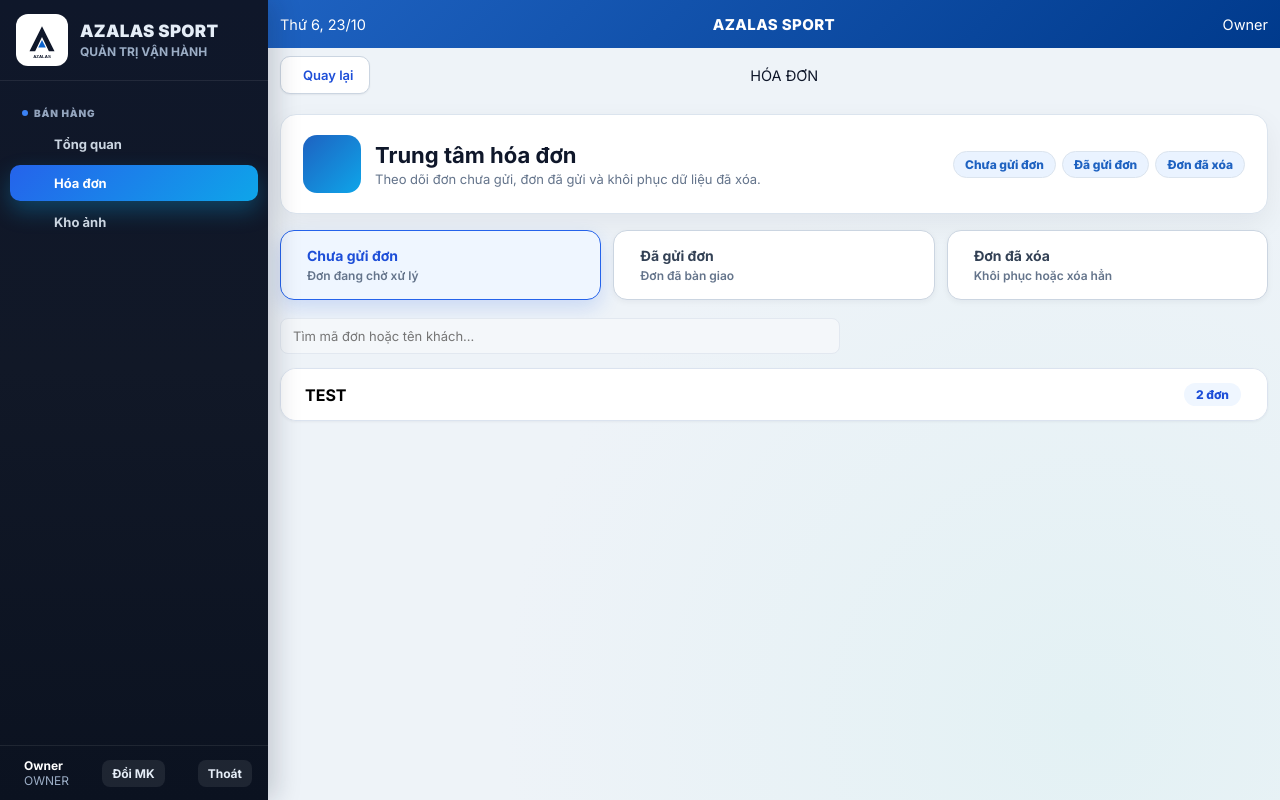
Scenario: invoice split flow › clicking a pending customer navigates to the group page without opening a modal
The width and height of the screenshot is (1280, 800).
Click the button with class "invoice-group-head": (326, 394) [281, 369, 1267, 420]
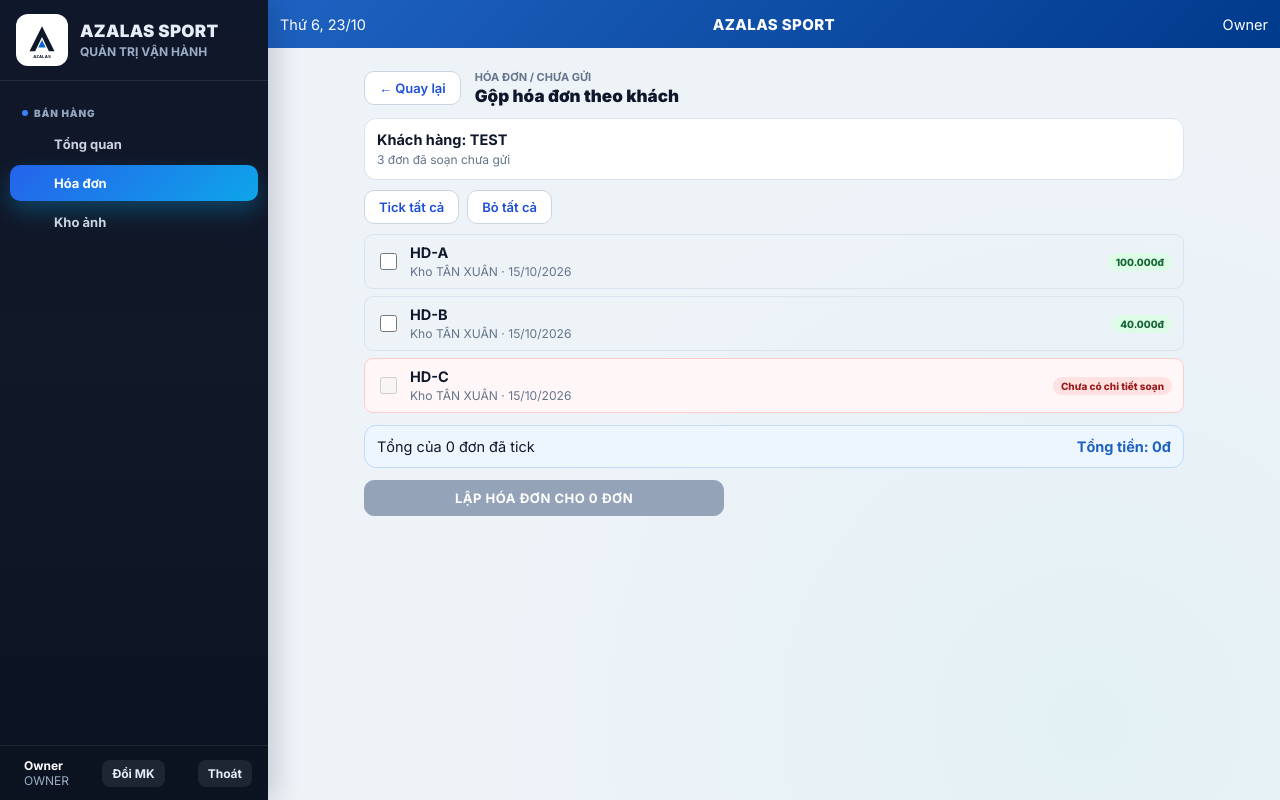
Now the element with class "invoice-group-orders" is shown, box [352, 234, 1196, 413]
